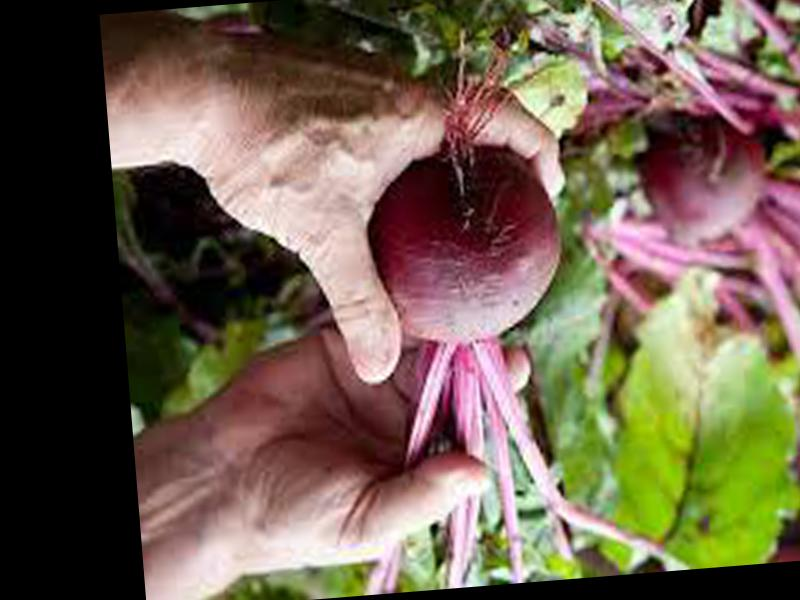Beet: (358, 130, 691, 589)
